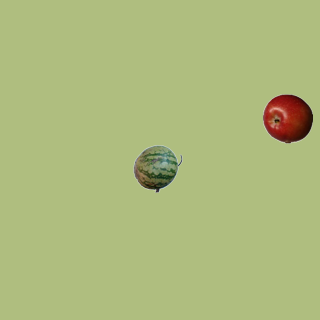Apple Braeburn: (262, 93, 312, 143)
Watermelon: (132, 143, 182, 193)
